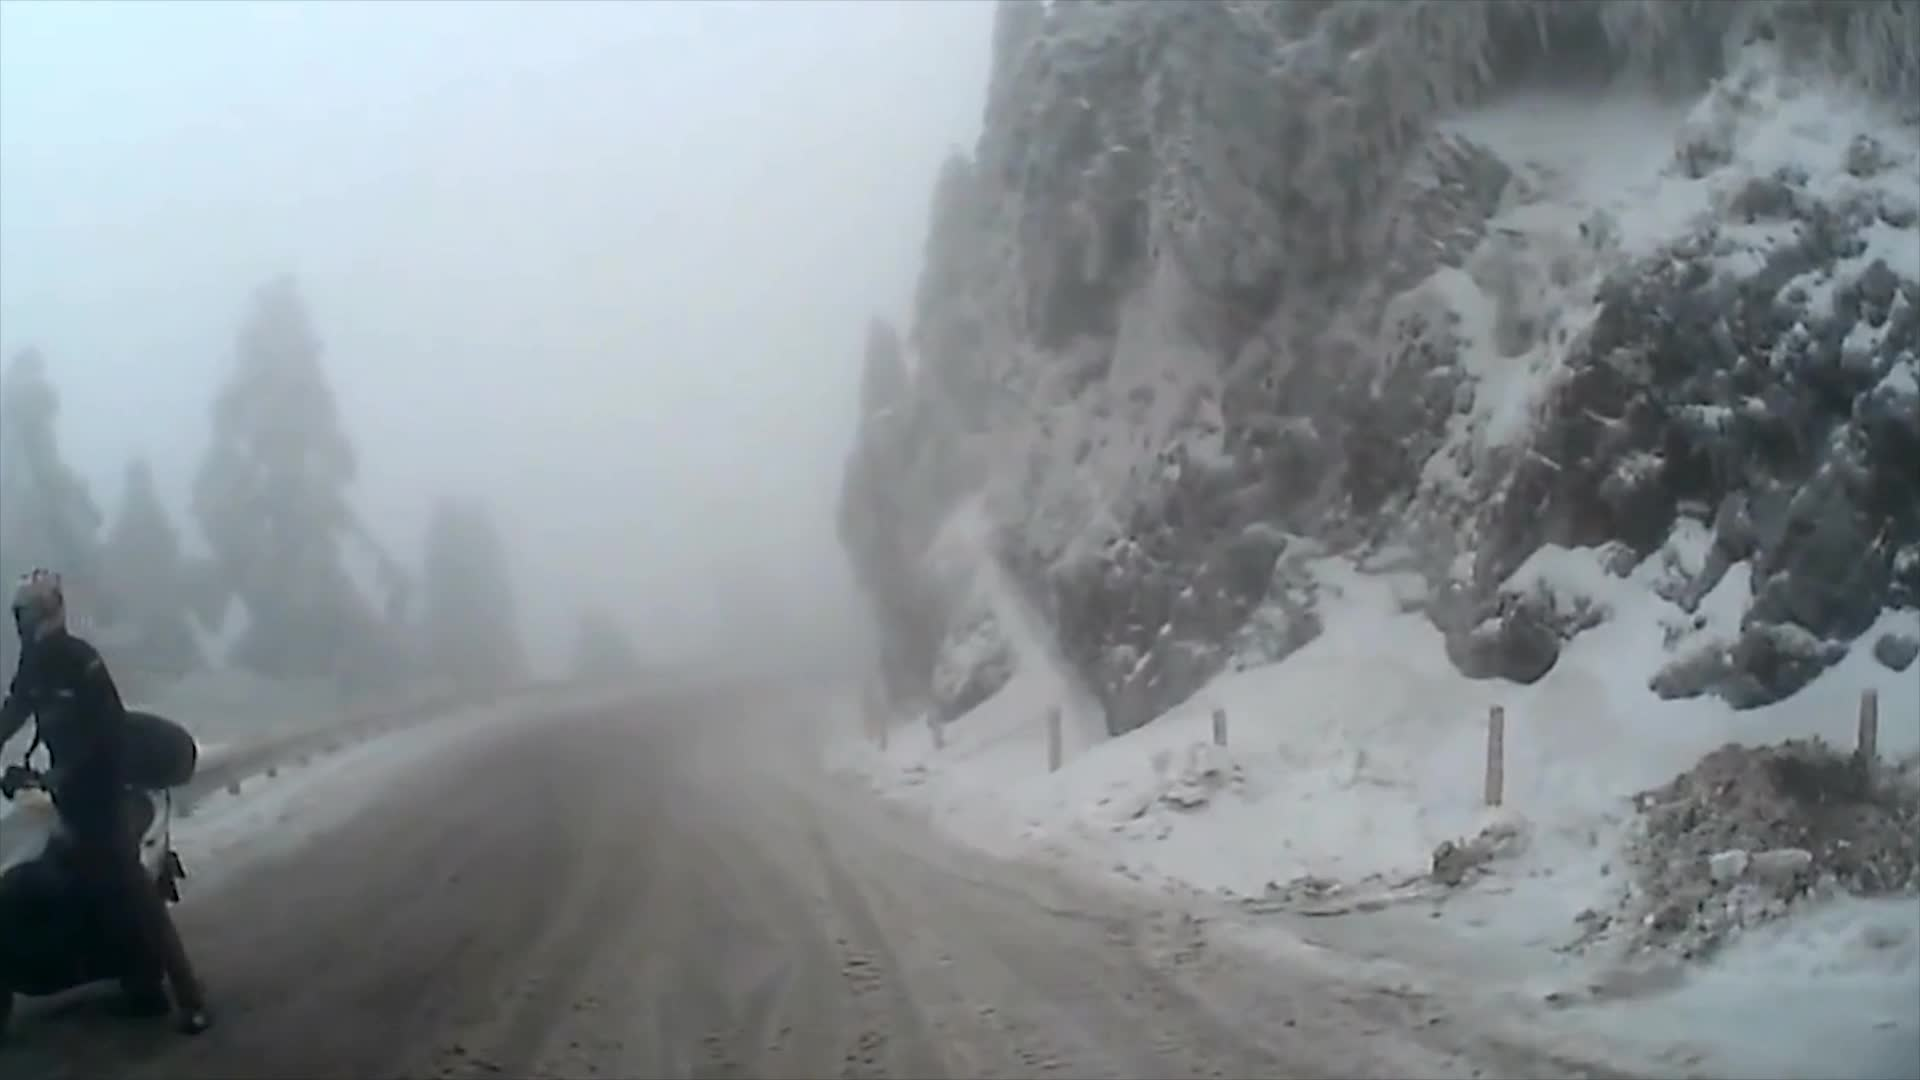pedestrian: (8, 563, 211, 1033)
